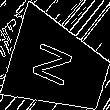N_E: (33, 39, 84, 94)
